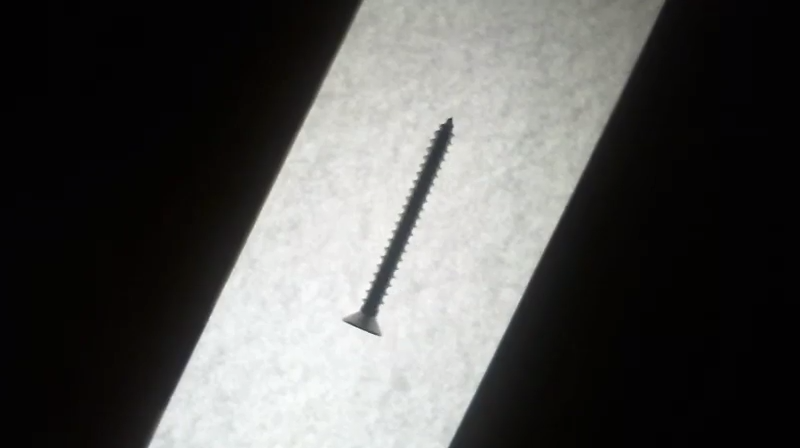S002: (336, 114, 456, 339)
